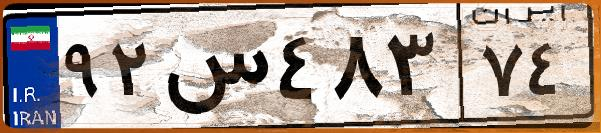2: (110, 28, 158, 98)
3: (385, 28, 445, 110)
4: (270, 28, 330, 110), (525, 38, 570, 115)
7: (475, 38, 525, 113)
8: (330, 28, 385, 110)
9: (57, 26, 110, 100)
س: (158, 20, 270, 120)
